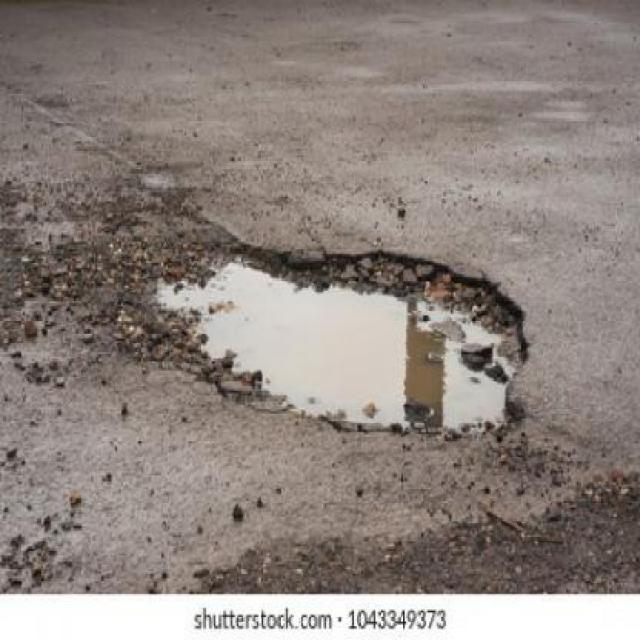Pothole: (148, 238, 535, 445)
